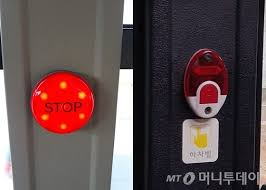bell: (184, 48, 229, 119)
